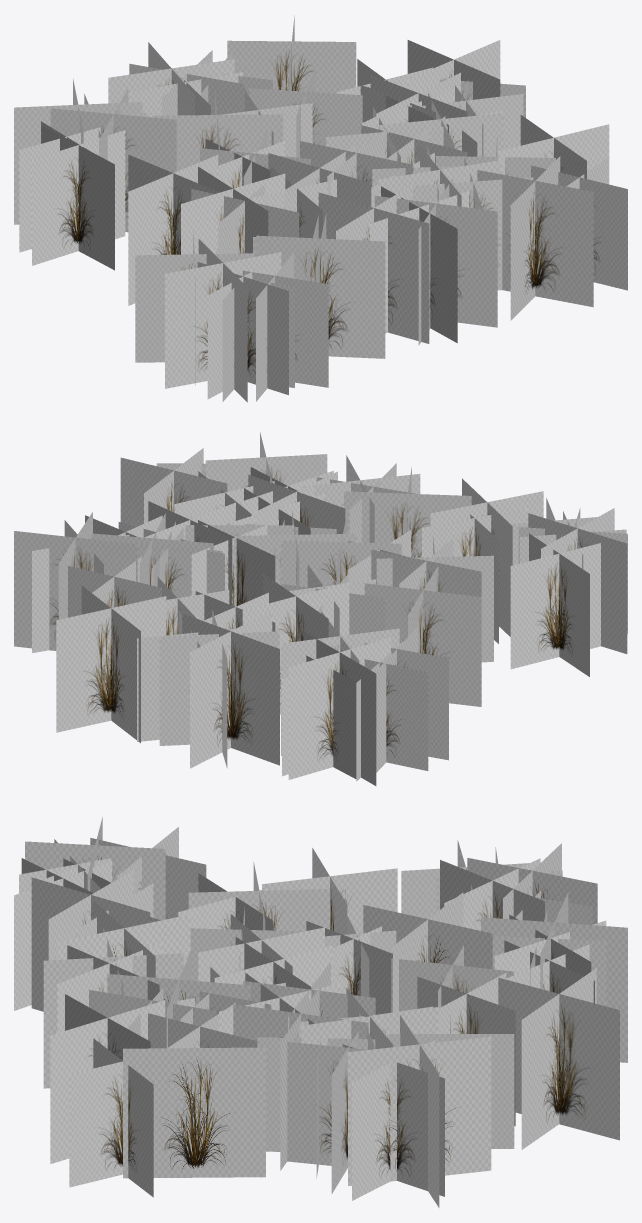
3 views of the same model, one above another, from view 1: azimuth 30°, elevation 25°; view 2: azimuth 150°, elevation 25°; view 3: azimuth 270°, elevation 25° (orthographic). The views are drawn at different scales.
Visible parts, largest first — view 1: red-baron-grass-ornamental-Va7qqJC-600.001_red-baron-grass-o, red-baron-grass-ornamental-Va7qqJC-600_red-baron-grass-ornam; view 2: red-baron-grass-ornamental-Va7qqJC-600_red-baron-grass-ornam, red-baron-grass-ornamental-Va7qqJC-600.001_red-baron-grass-o; view 3: red-baron-grass-ornamental-Va7qqJC-600_red-baron-grass-ornam, red-baron-grass-ornamental-Va7qqJC-600.001_red-baron-grass-o.
Part boxes in pixels (<box>): red-baron-grass-ornamental-Va7qqJC-600.001_red-baron-grass-o: <box>14,40,627,401</box>; red-baron-grass-ornamental-Va7qqJC-600_red-baron-grass-ornam: <box>19,15,609,402</box>; red-baron-grass-ornamental-Va7qqJC-600_red-baron-grass-ornam: <box>56,432,627,779</box>; red-baron-grass-ornamental-Va7qqJC-600.001_red-baron-grass-o: <box>14,448,627,785</box>; red-baron-grass-ornamental-Va7qqJC-600_red-baron-grass-ornam: <box>14,838,619,1200</box>; red-baron-grass-ornamental-Va7qqJC-600.001_red-baron-grass-o: <box>19,817,627,1207</box>.
Size of the model in its own units: 458 by 109 by 449.
1 material, 1 textured.
